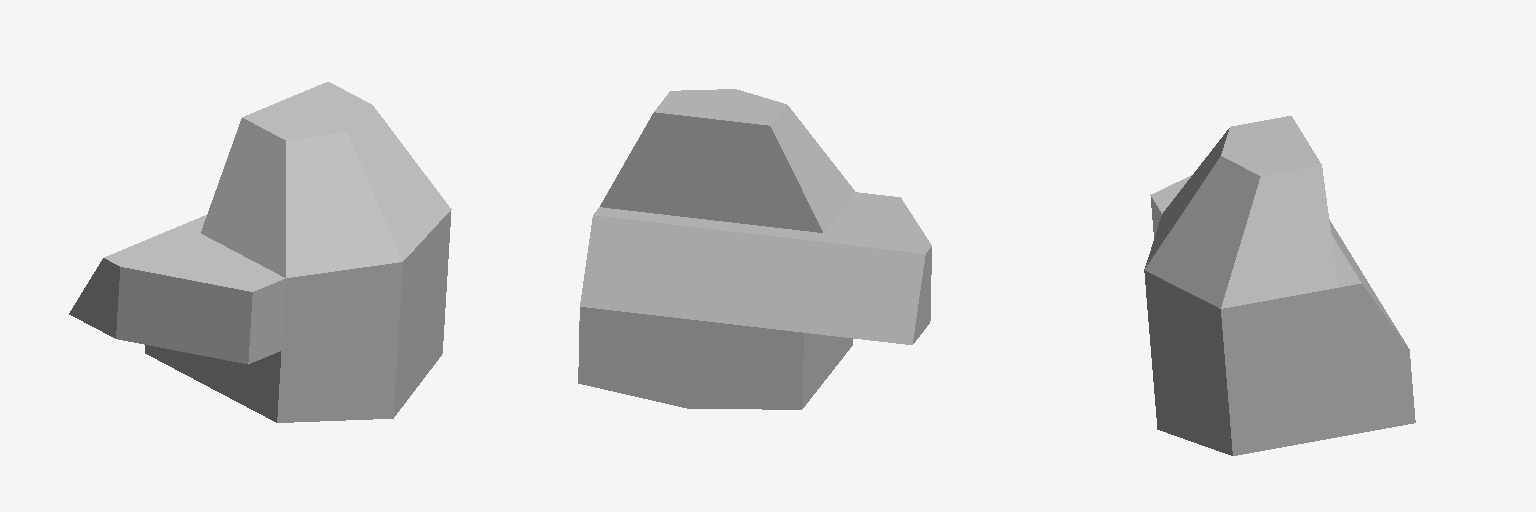
Rendered from rock_ex.obj.
3 renders of one model, left to right at view 1: azimuth 30°, elevation 25°; view 2: azimuth 150°, elevation 25°; view 3: azimuth 270°, elevation 25°, orthographic.
Parts seen in each view (by area): view 1: Boulder; view 2: Boulder; view 3: Boulder.
Boxes of the visible parts, x1=… form: Boulder: x1=69, y1=82, x2=451, y2=422; Boulder: x1=578, y1=89, x2=931, y2=409; Boulder: x1=1144, y1=116, x2=1415, y2=455.
Bounding box in the file's own units: 36.18 × 28.42 × 25.63.